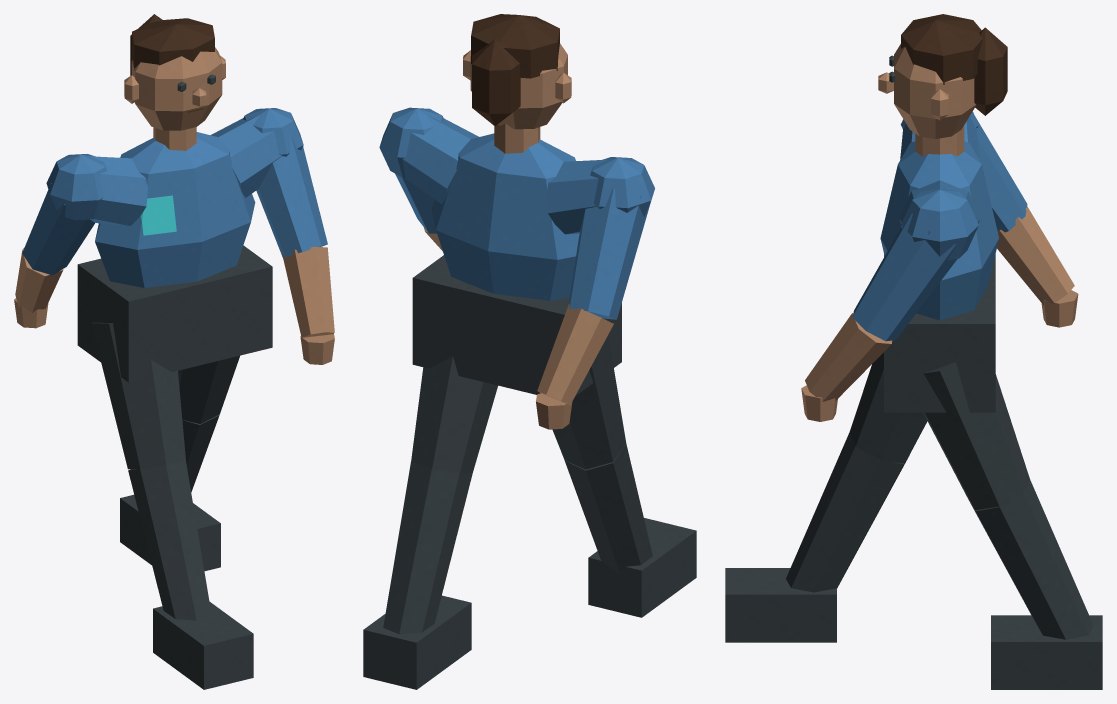
The model's file is civilian-female.glb.
The picture shows the model from 3 angles, left to right: view 1: azimuth 30°, elevation 25°; view 2: azimuth 150°, elevation 25°; view 3: azimuth 270°, elevation 25°; orthographic projection. The views are drawn at different scales.
Parts seen in each view (by area): view 1: Trouser waistband 002, Clothed torso 001, Trouser lower leg 014, Trouser upper leg 013, Original flat sole shoe 015, Neutral face 004, Clothed upper sleeve 026, Forearm 027, Clothed upper sleeve 018, Short faceted hair 005, Clothed shoulder cap 017, Clothed shoulder bridge 024 (+10 smaller); view 2: Clothed torso 001, Trouser waistband 002, Trouser lower leg 022, Trouser upper leg 021, Original flat sole shoe 015, Clothed upper sleeve 018, Original flat sole shoe 023, Trouser lower leg 014, Trouser upper leg 013, Forearm 019, Short faceted hair 005, Clothed shoulder bridge 024 (+8 smaller); view 3: Trouser waistband 002, Trouser lower leg 022, Trouser lower leg 014, Trouser upper leg 021, Clothed torso 001, Original flat sole shoe 015, Original flat sole shoe 023, Clothed upper sleeve 026, Neutral face 004, Short faceted hair 005, Trouser upper leg 013, Forearm 019 (+9 smaller).
Part boxes in pixels (box(x1,y1,x2,y2)): Trouser waistband 002: box(77, 245, 272, 382); Clothed torso 001: box(95, 132, 255, 287); Trouser lower leg 014: box(128, 460, 211, 620); Trouser upper leg 013: box(91, 322, 185, 469); Original flat sole shoe 015: box(153, 601, 253, 689); Neutral face 004: box(131, 47, 222, 130); Clothed upper sleeve 026: box(256, 132, 327, 257); Forearm 027: box(282, 246, 334, 337); Clothed upper sleeve 018: box(22, 183, 95, 275); Short faceted hair 005: box(132, 18, 214, 70); Clothed shoulder cap 017: box(46, 154, 106, 220); Clothed shoulder bridge 024: box(210, 115, 281, 197); Clothed torso 001: box(431, 133, 579, 300); Trouser waistband 002: box(412, 255, 621, 395); Trouser lower leg 022: box(383, 462, 472, 634); Trouser upper leg 021: box(411, 356, 497, 473); Original flat sole shoe 015: box(588, 518, 696, 617); Clothed upper sleeve 018: box(568, 189, 650, 319); Original flat sole shoe 023: box(363, 595, 471, 689); Trouser lower leg 014: box(564, 443, 652, 574); Trouser upper leg 013: box(552, 335, 626, 469); Forearm 019: box(537, 304, 613, 405); Short faceted hair 005: box(471, 14, 559, 78); Clothed shoulder bridge 024: box(402, 115, 478, 203); Trouser waistband 002: box(884, 254, 995, 412); Trouser lower leg 022: box(970, 478, 1093, 639); Trouser lower leg 014: box(786, 432, 909, 592); Trouser upper leg 021: box(923, 362, 1029, 509); Clothed torso 001: box(880, 141, 999, 320); Original flat sole shoe 015: box(725, 568, 836, 642); Original flat sole shoe 023: box(991, 615, 1102, 689); Clothed upper sleeve 026: box(852, 213, 957, 341); Neutral face 004: box(894, 44, 976, 138); Short faceted hair 005: box(901, 14, 982, 84); Trouser upper leg 013: box(849, 352, 927, 463); Forearm 019: box(997, 206, 1074, 305).
Size of the model in its own units: 0.7774 by 1.72 by 0.9288.
6 materials, 6 textured.
